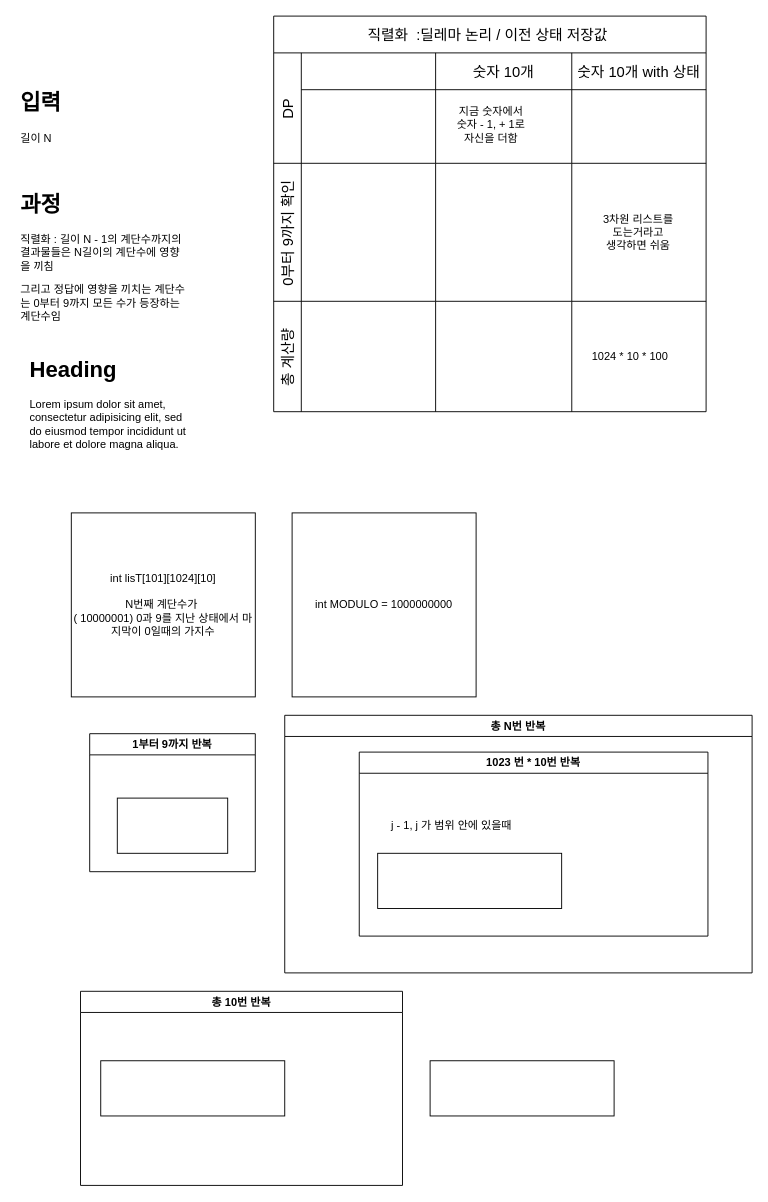
This 768x1202 diagram has some shape labels left out. The shapes that lost their labels are listed below. From the top down, each one's centre as x and y in pixels, then its label:
At point 172,825: "list[1][1 << i ][i] = 1".
At point 469,880: "lisT[x + 1][i | j +- 1][ j +- 1] += 자기자신".
At point 192,1088: "ans += lisT[N][1023][i] % MODULO".
At point 521,1088: "cout << ans;".
